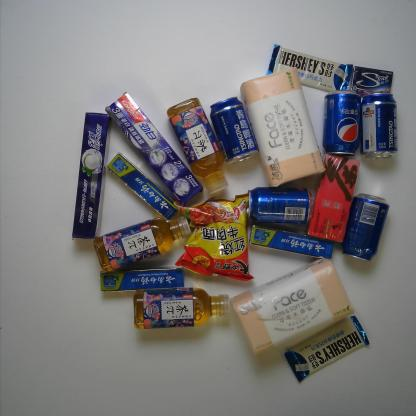Alcohol: (209, 96, 260, 166), (360, 92, 398, 160)
Chocolate: (284, 315, 368, 380), (268, 43, 352, 96)
Drink: (94, 213, 192, 276), (167, 97, 231, 193), (134, 290, 229, 330), (343, 193, 390, 261), (247, 186, 314, 225), (324, 88, 362, 156)
Gum: (350, 64, 394, 96)
Instant Drink: (308, 151, 360, 244)
Instant Noodles: (171, 193, 256, 283)
Personal Hygiene: (105, 92, 202, 205), (72, 113, 111, 239), (108, 155, 179, 223), (249, 224, 334, 260), (100, 270, 184, 292)
Tissue: (229, 259, 355, 353), (240, 66, 328, 187)
